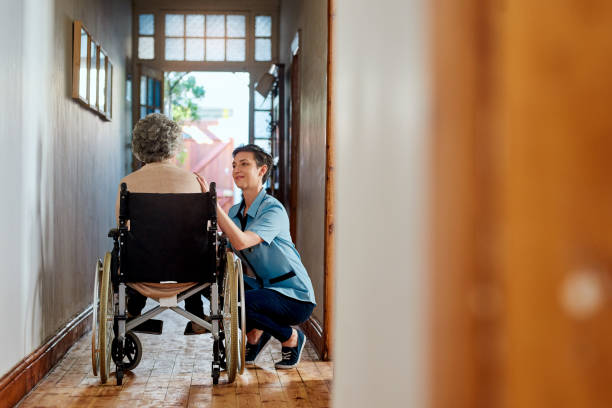wheel_chair: (84, 177, 247, 392)
